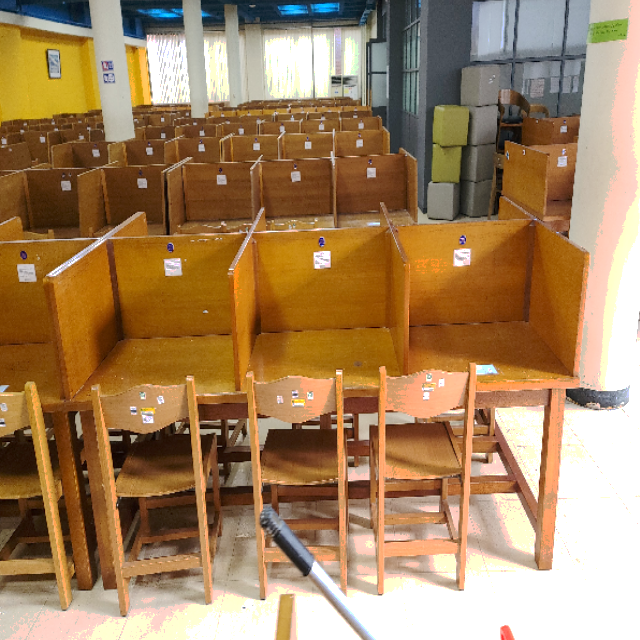empty: (60, 239, 238, 465), (245, 237, 408, 471), (421, 240, 582, 467)
